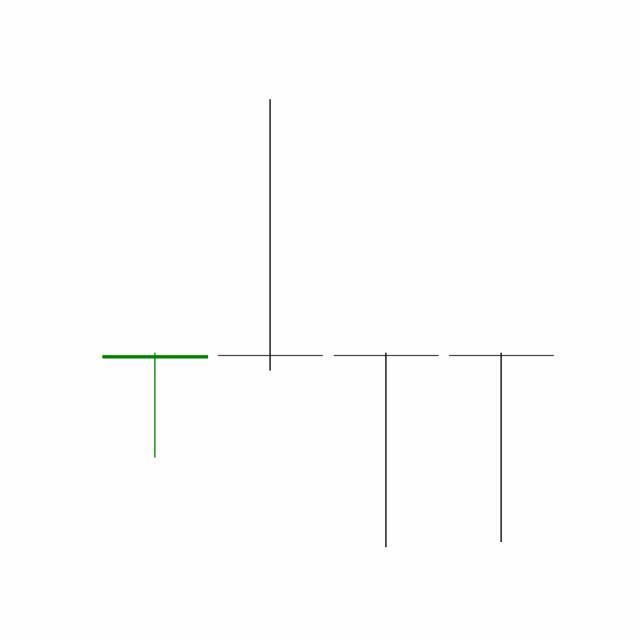Dragonfly Doji: (329, 351, 445, 551)
